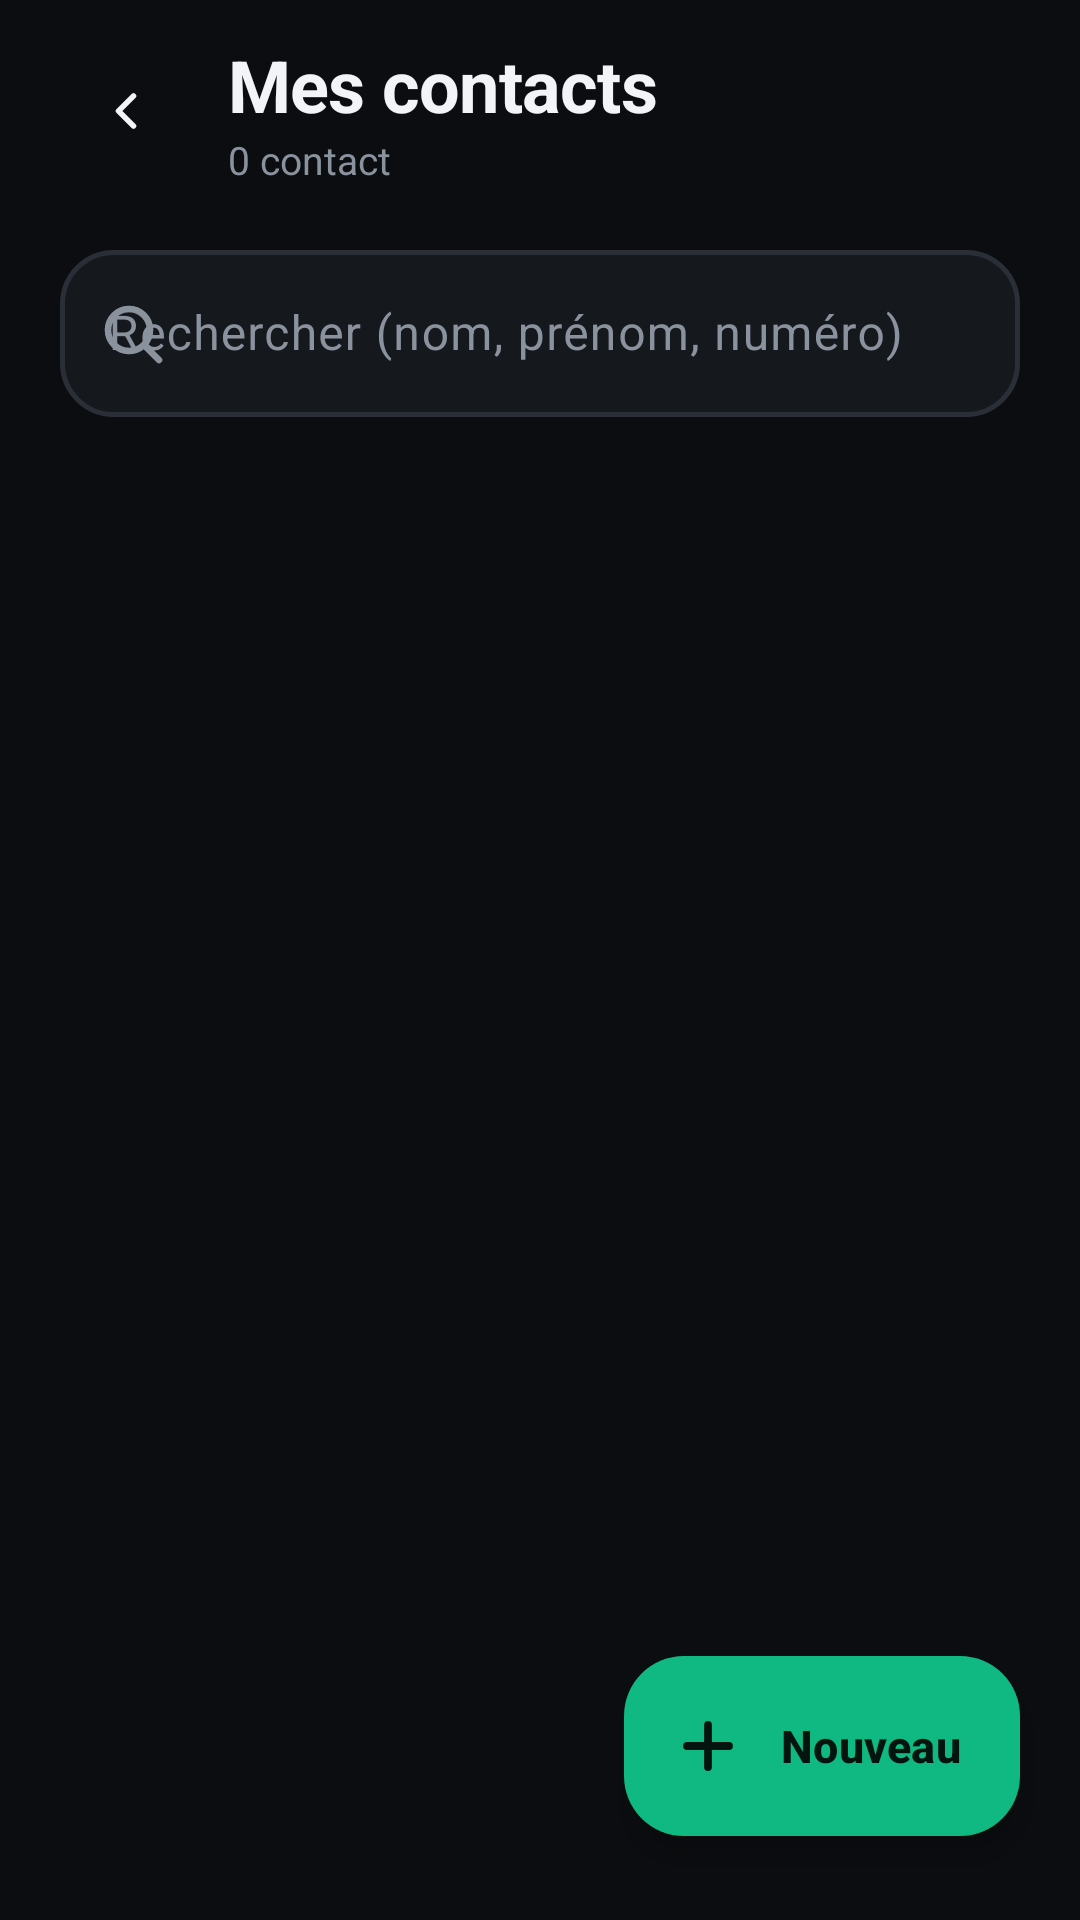

Where icons sit on this 1080px x 1920px app screen, as {"left": x1, "top": y1, "right": x2, "bottom": y2}:
Retour: {"left": 115, "top": 93, "right": 137, "bottom": 129}
